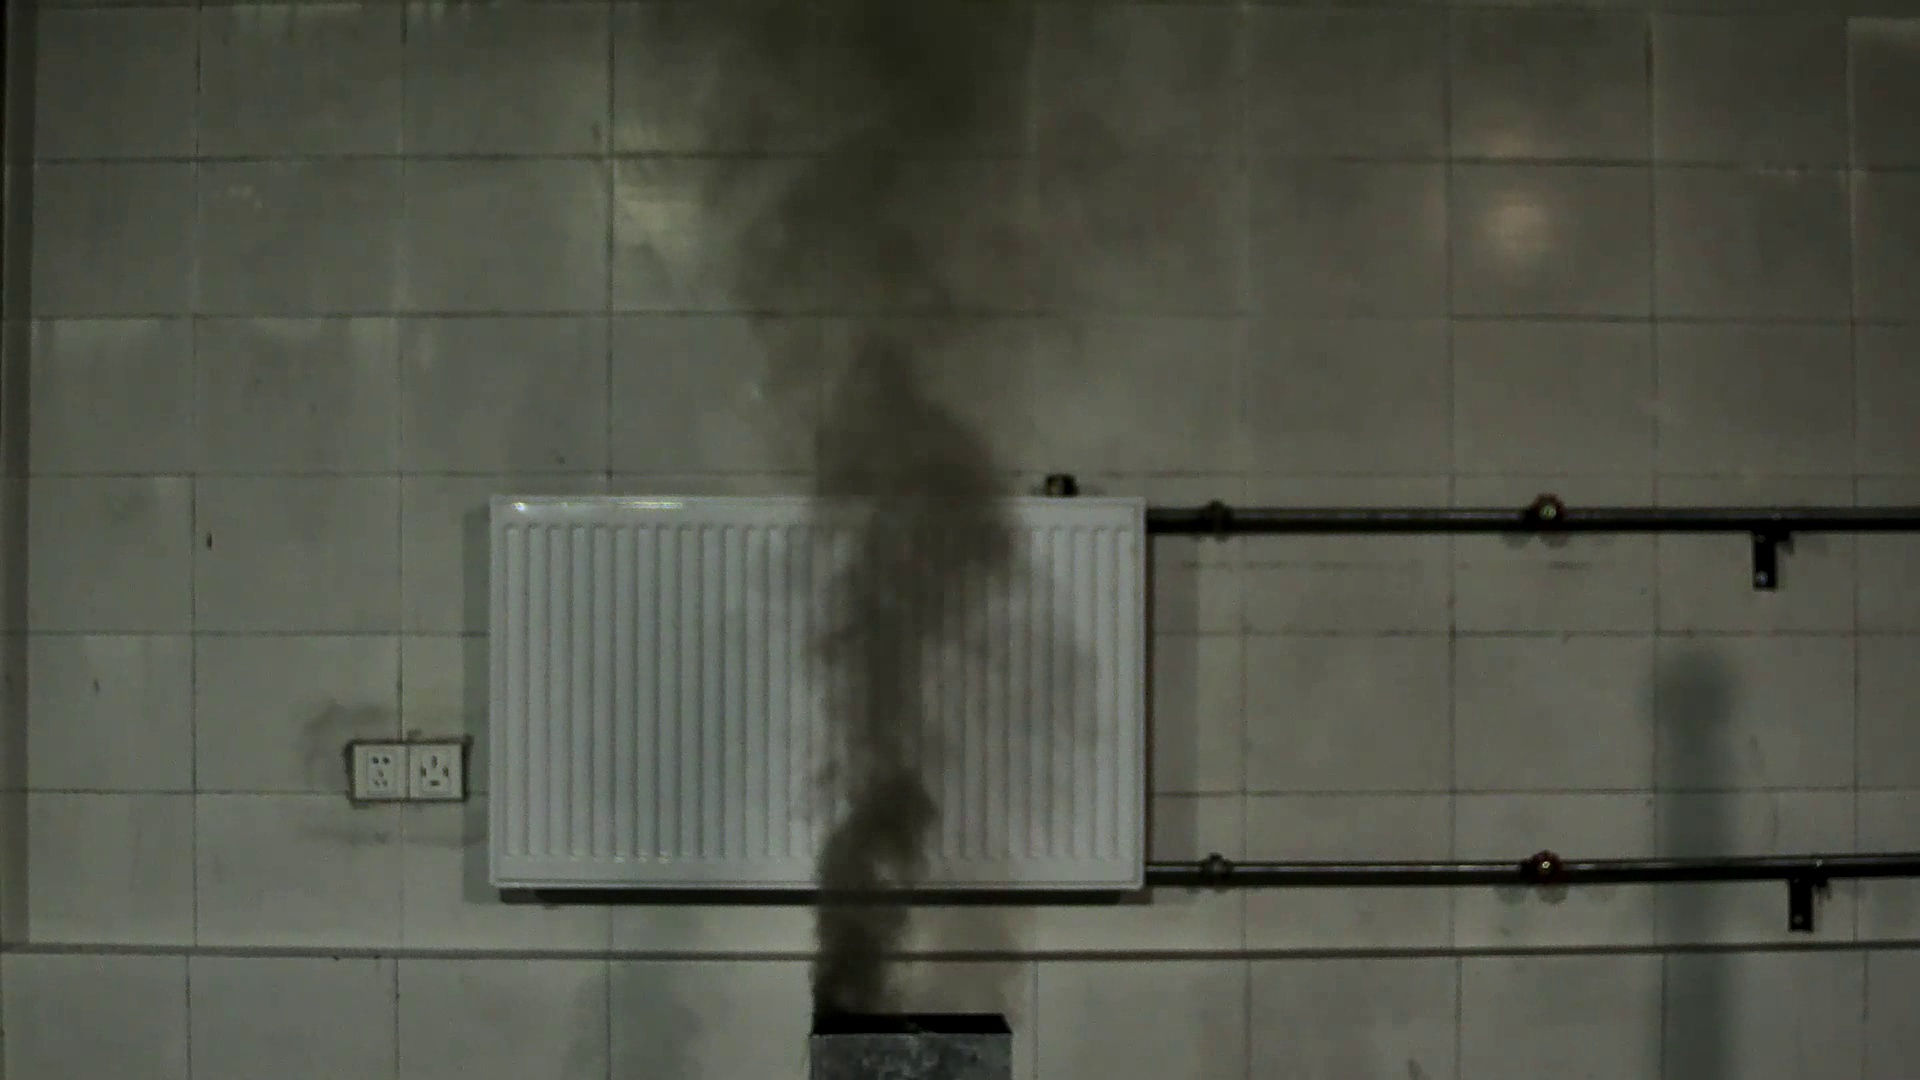smoke: (723, 164, 1015, 1021)
